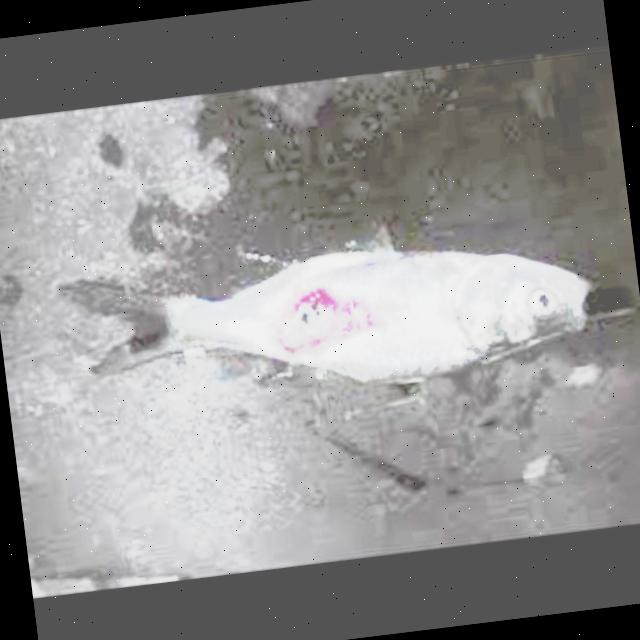Epizootic Ulcerative Syndrome -EUS-: (61, 251, 588, 379), (92, 250, 588, 381)
